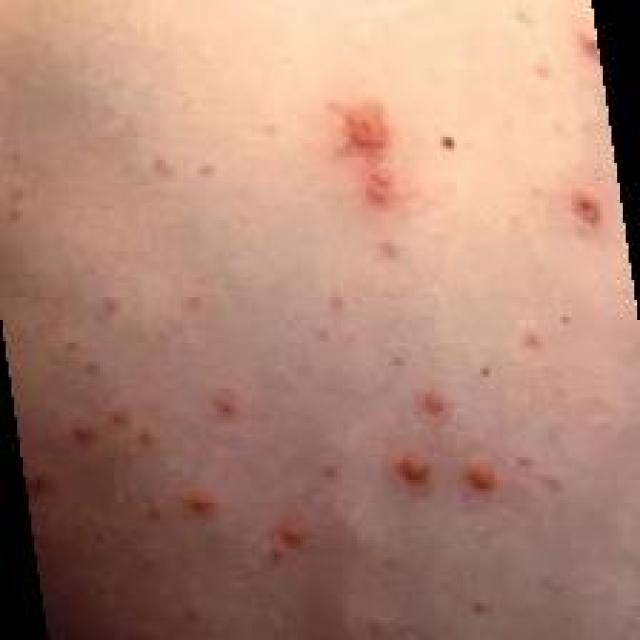others: (74, 34, 612, 640)
